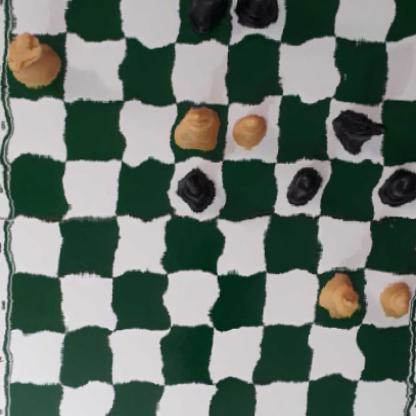black-king: (235, 0, 281, 37)
black-knight: (331, 104, 391, 158)
black-pawn: (376, 162, 416, 207), (179, 170, 219, 215), (283, 165, 325, 206)
black-rook: (178, 0, 229, 34)
white-bishop: (174, 103, 220, 159)
white-king: (314, 270, 363, 318)
white-pawn: (370, 273, 416, 319), (229, 105, 270, 153)
white-rook: (8, 33, 60, 91)
